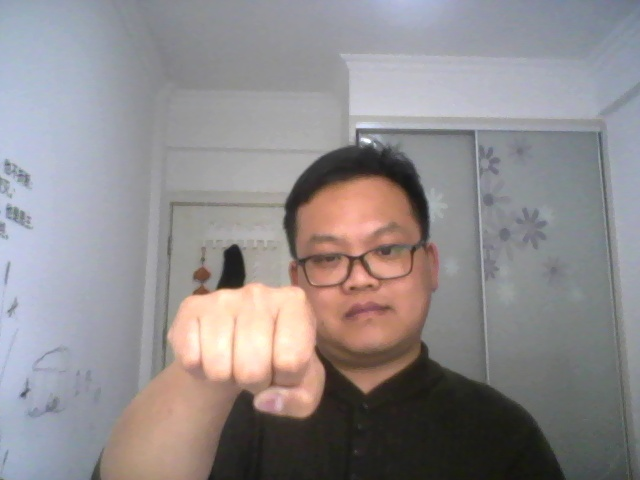Yes: (155, 275, 339, 427)
